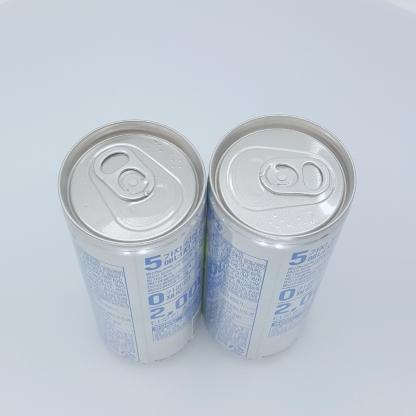---------: (202, 114, 356, 359), (58, 119, 207, 364)
